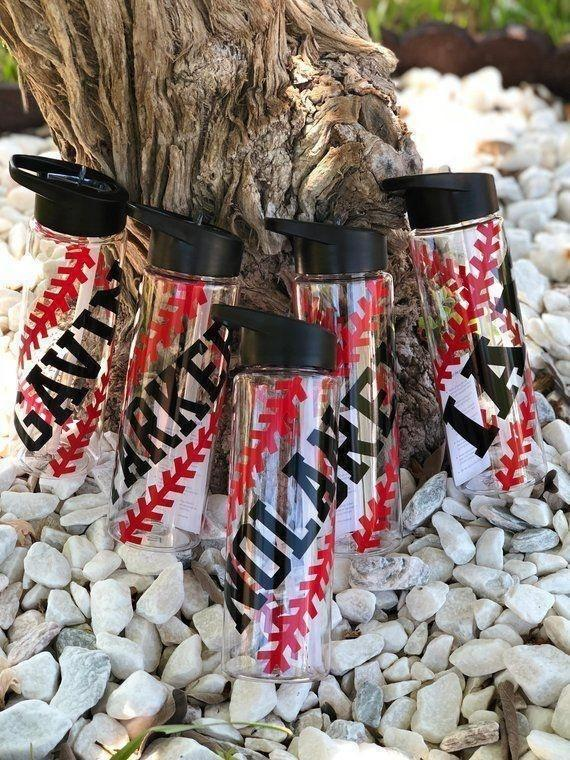gym bottle: (379, 170, 545, 490), (109, 203, 245, 553), (218, 304, 340, 687), (279, 211, 401, 558), (6, 152, 129, 477)
